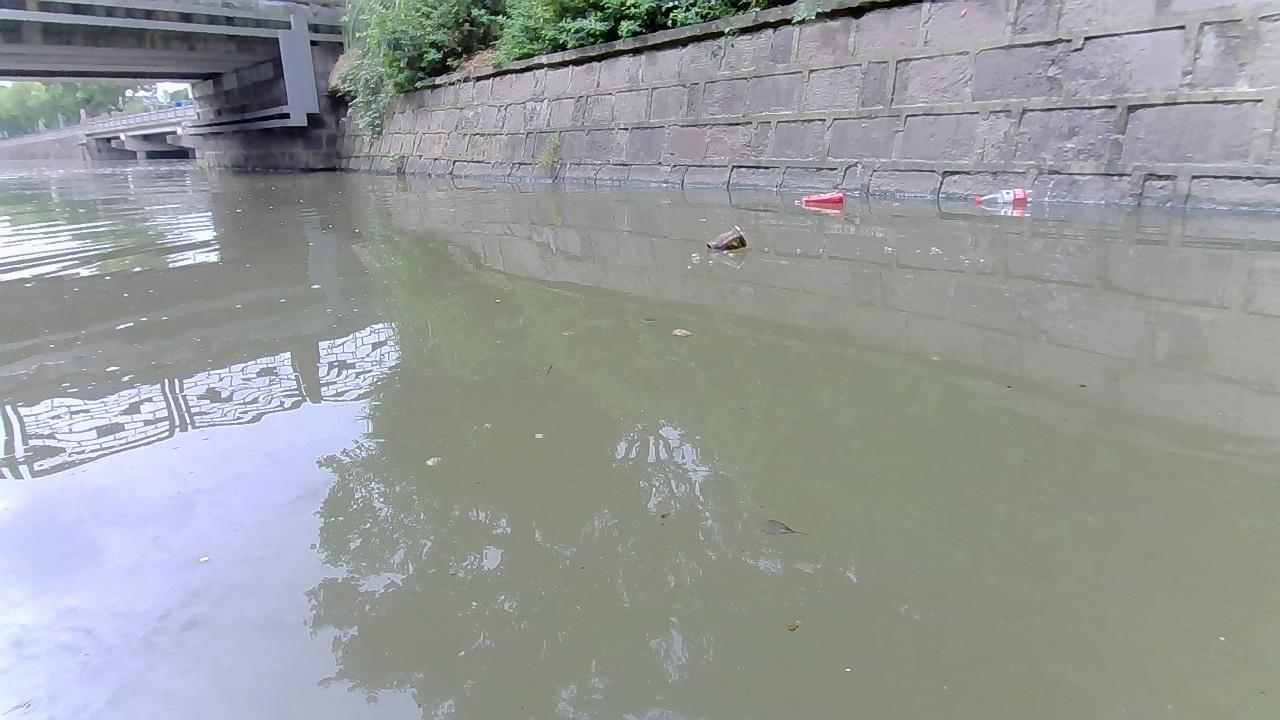bottle: (972, 181, 1037, 211), (702, 221, 747, 260), (791, 188, 849, 209)
